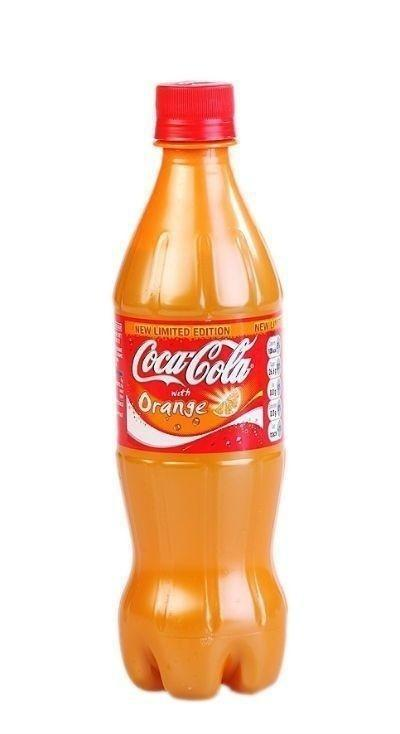bottle-plastic: (108, 75, 291, 703)
